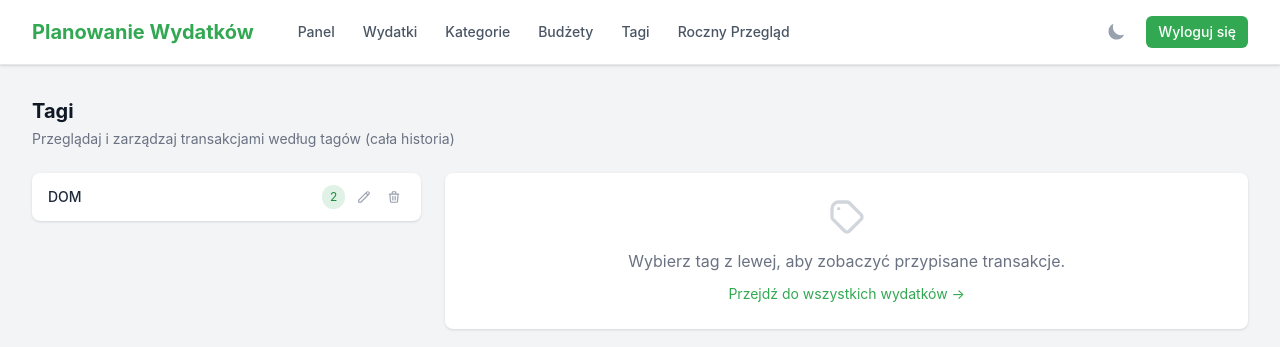
Scenario: selecting a tag › matching is case-insensitive on the tag name
Click the button with aria-label "Pokaż transakcje z tagiem DOM".
click(65, 196)  # box [48,187,314,207]
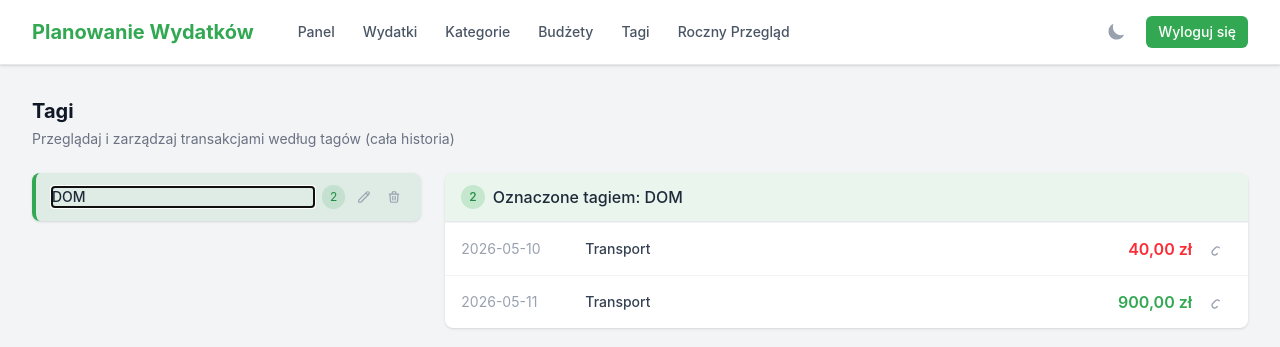
Result: the heading "2 Oznaczone tagiem: DOM" is shown at [461,185,683,209]
Result: the text "2026-05-10" is shown at [461,240,540,257]
